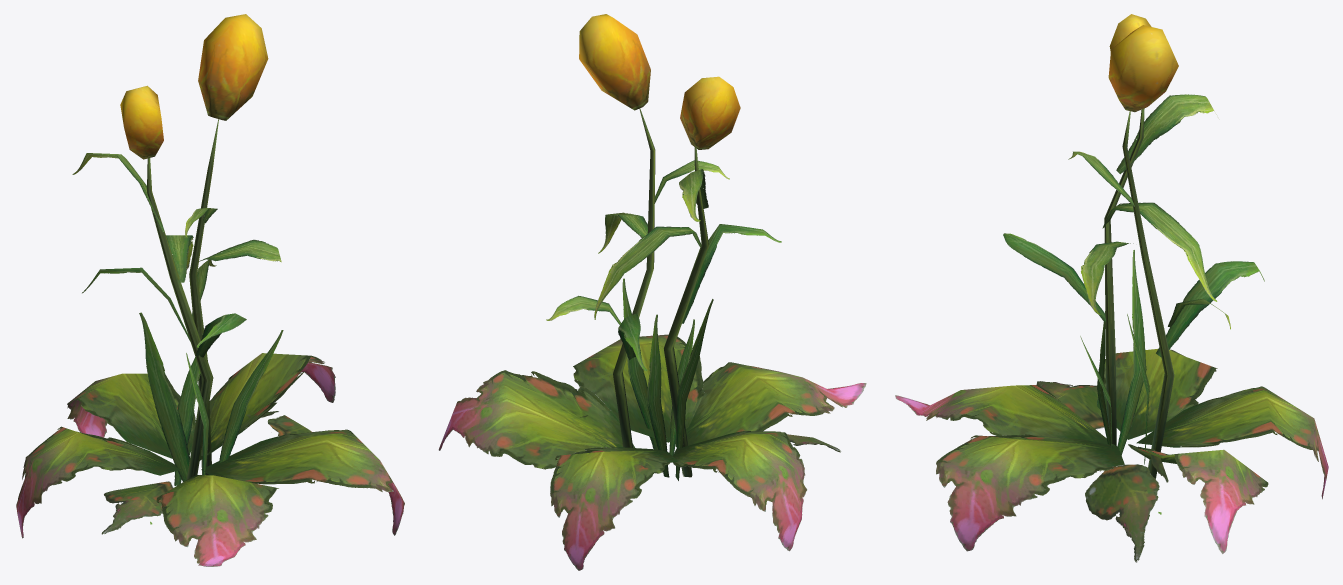
Rendered from zhiwu02.FBX.
The picture shows the model from 3 angles, left to right: view 1: azimuth 30°, elevation 25°; view 2: azimuth 150°, elevation 25°; view 3: azimuth 270°, elevation 25°; orthographic projection. The views are drawn at different scales.
Visible parts, largest first — view 1: DrawCall_72; view 2: DrawCall_72; view 3: DrawCall_72.
Part boxes in pixels (x1,y1,x2,y2): DrawCall_72: (16,14,404,566); DrawCall_72: (438,14,866,570); DrawCall_72: (895,14,1328,562).
Size of the model in its own units: 1.01 by 1.38 by 1.08.
1 material, 1 textured.
